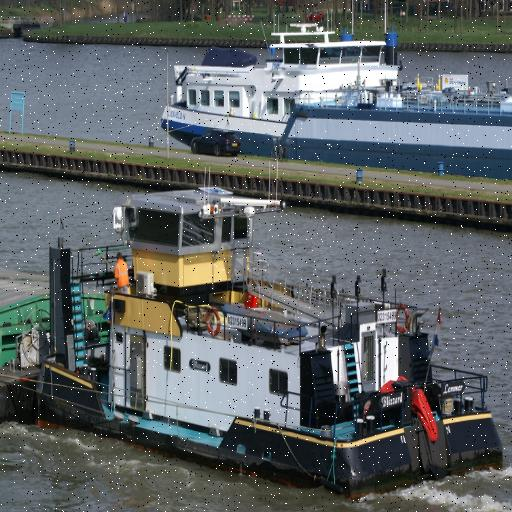tugboat: (32, 167, 510, 506)
